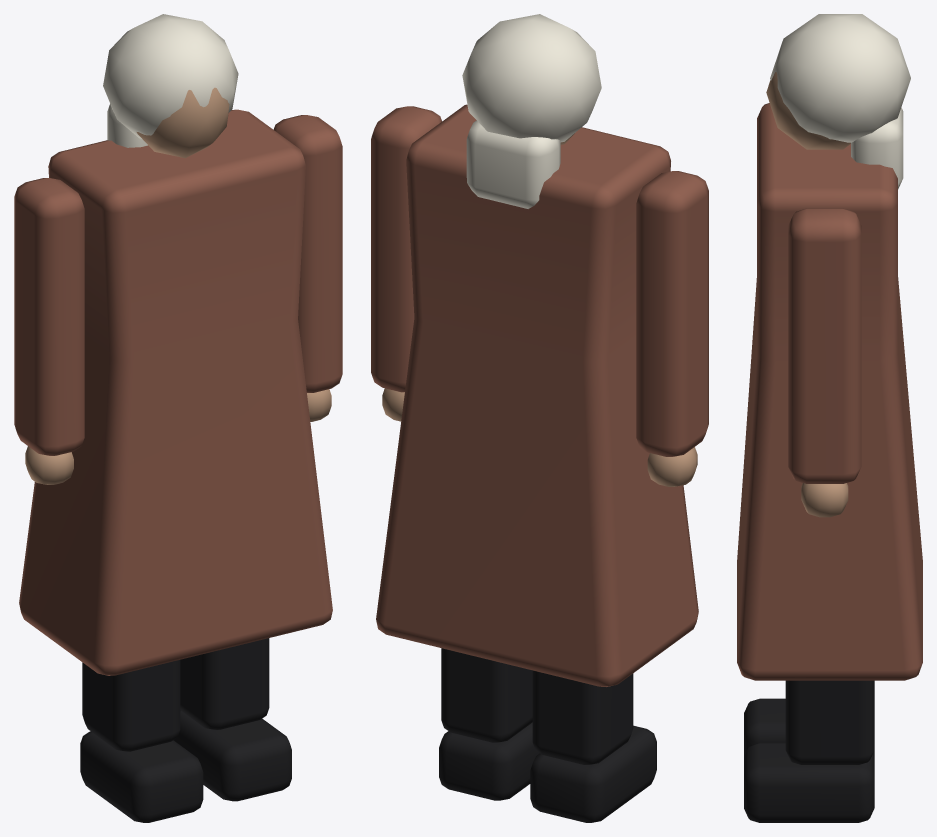
The model's file is vrouw.glb.
3 views of the same model, side by side, from view 1: azimuth 30°, elevation 25°; view 2: azimuth 150°, elevation 25°; view 3: azimuth 270°, elevation 25° (orthographic). The views are drawn at different scales.
Visible parts, largest first — view 1: Burger, LegL, LegR; view 2: Burger, LegL, LegR; view 3: Burger, LegR, LegL.
Part boxes in pixels (x1=…): Burger: x1=14, y1=14, x2=342, y2=675; LegL: x1=80, y1=660, x2=203, y2=822; LegR: x1=173, y1=638, x2=291, y2=801; Burger: x1=371, y1=14, x2=708, y2=686; LegL: x1=530, y1=670, x2=656, y2=822; LegR: x1=439, y1=648, x2=539, y2=800; Burger: x1=737, y1=14, x2=922, y2=680; LegR: x1=744, y1=680, x2=874, y2=822; LegL: x1=744, y1=698, x2=874, y2=757.
Bounding box in the file's own units: 0.69 × 1.63 × 0.3552.
